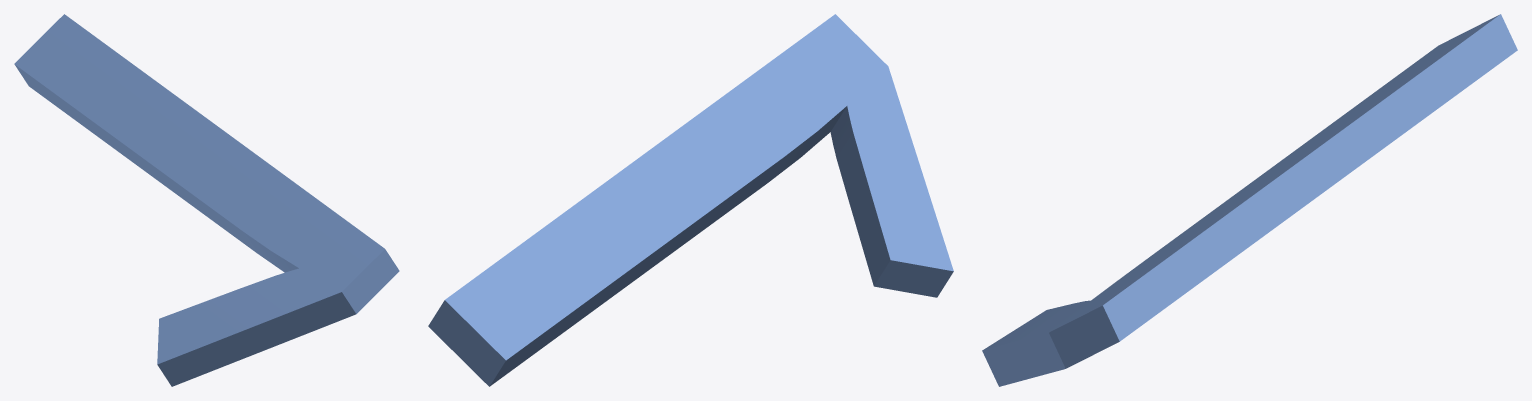
The model's file is New_Number_1.gltf.
The picture shows the model from 3 angles, left to right: view 1: azimuth 30°, elevation 25°; view 2: azimuth 150°, elevation 25°; view 3: azimuth 330°, elevation 25°; orthographic projection. The views are drawn at different scales.
Visible parts, largest first — view 1: Part 316; view 2: Part 316; view 3: Part 316.
Boxes of the visible parts, box(x1,y1,x2,y2) form: Part 316: box(14, 14, 399, 386); Part 316: box(428, 14, 953, 386); Part 316: box(982, 14, 1517, 386).
Size of the model in its own units: 0.0016 by 0.00129 by 0.00505.
